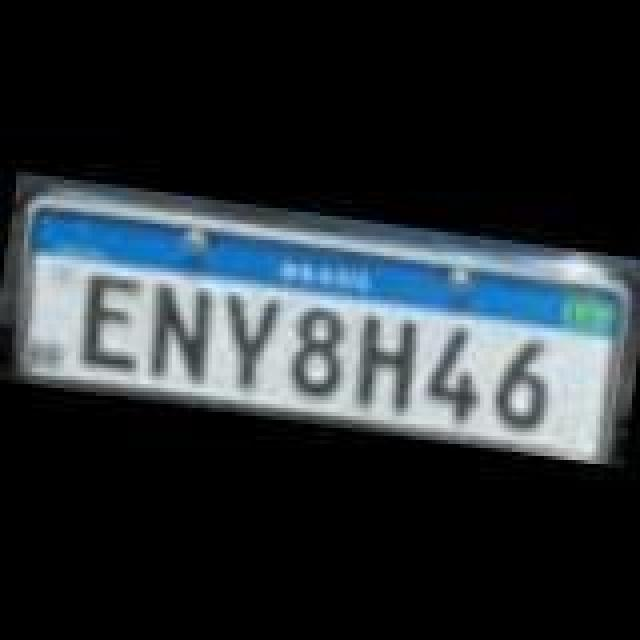4: (420, 320, 492, 424)
6: (494, 334, 562, 434)
8: (286, 300, 354, 404)
E: (76, 270, 148, 378)
H: (348, 310, 428, 418)
N: (142, 282, 218, 390)
Y: (214, 290, 282, 398)
